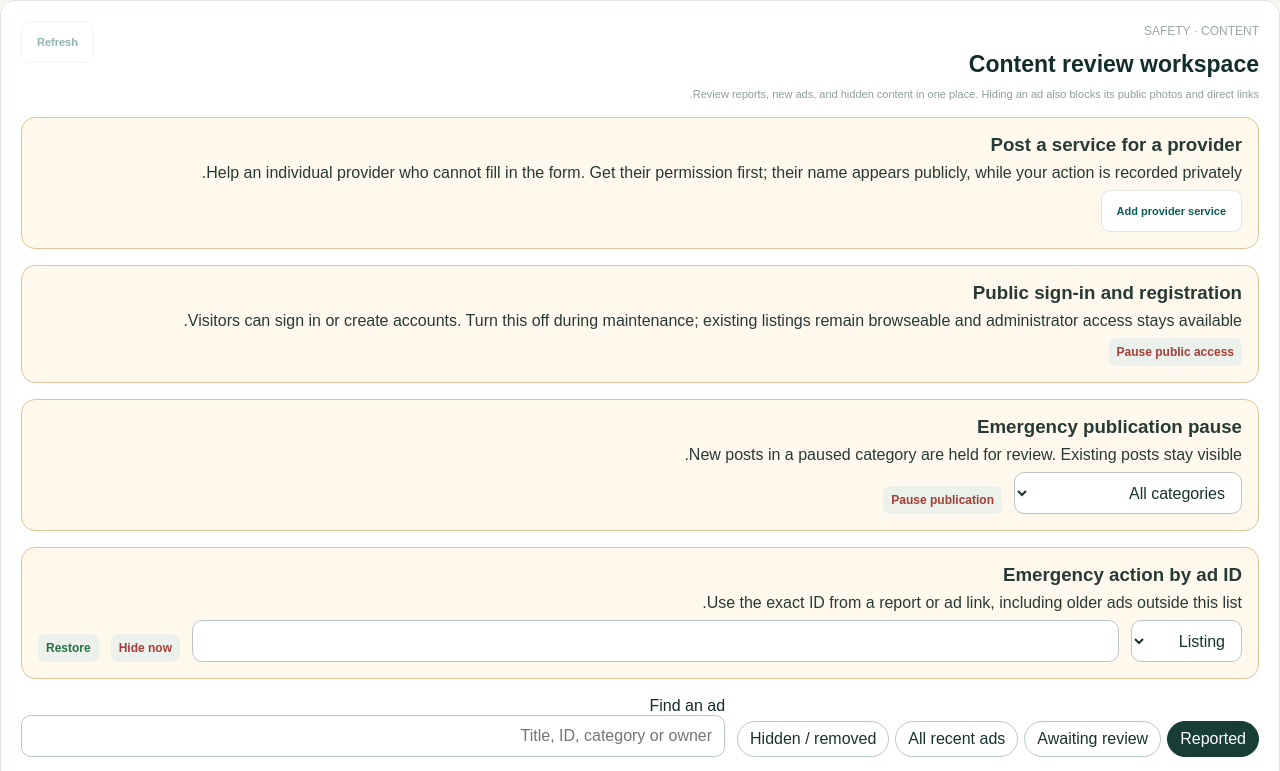
Scenario: owner content controls › offers the assisted service form to administrators, but not moderators
The image size is (1280, 771).
Click the button "Add provider service" at coordinates (1171, 211), box [1101,190,1242,232]
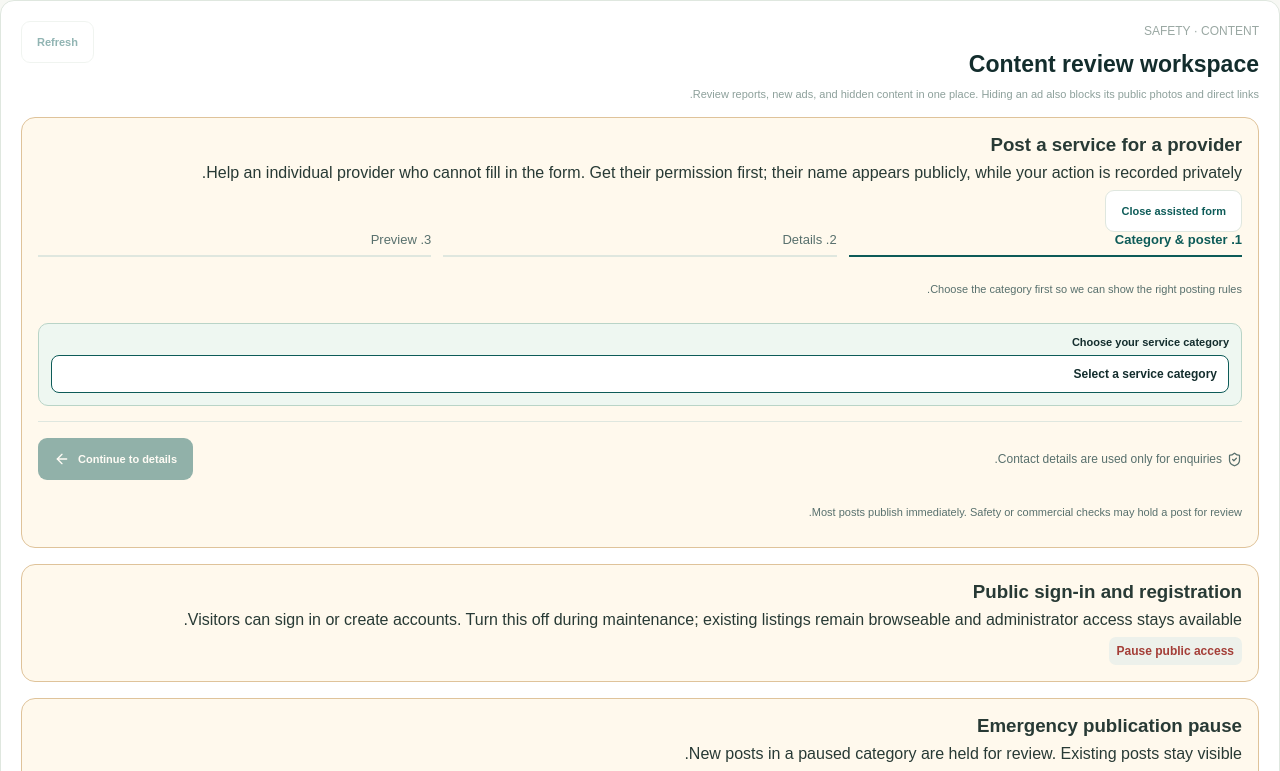
Check: the dropdown labelled "Choose your service category" is shown, box [51,355,1229,393]
